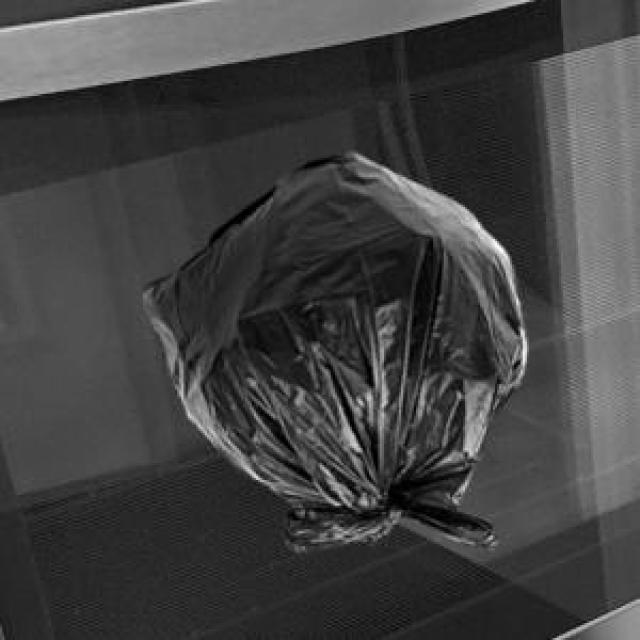miscellaneous trash: (141, 147, 523, 545)
